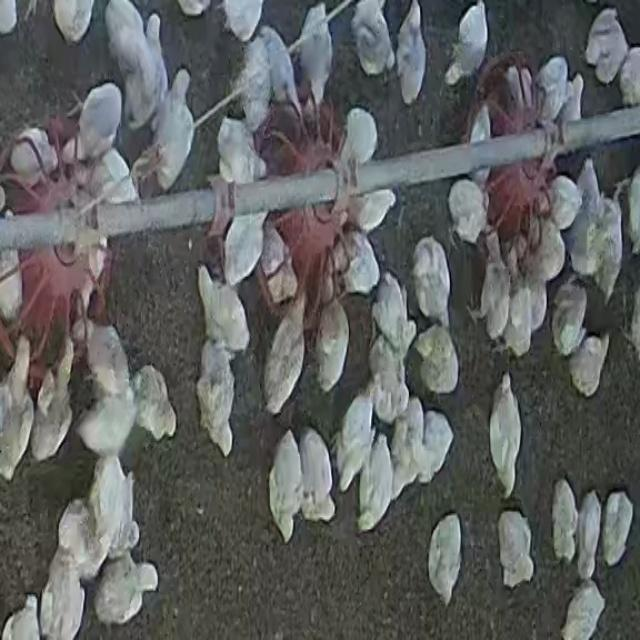chicken: (141, 72, 197, 193), (392, 402, 454, 499), (29, 340, 76, 463), (68, 81, 125, 180), (83, 458, 134, 568), (121, 13, 170, 124), (234, 26, 281, 136), (197, 264, 250, 360), (196, 339, 238, 459), (74, 382, 139, 459), (264, 300, 307, 416), (0, 336, 35, 478), (93, 552, 157, 626), (258, 24, 304, 126), (82, 317, 133, 405), (268, 428, 305, 542), (489, 374, 523, 497), (293, 9, 334, 111), (584, 192, 623, 299), (52, 499, 98, 587), (41, 552, 89, 636), (424, 509, 468, 600), (442, 1, 488, 88), (472, 235, 508, 346), (368, 330, 410, 422), (335, 396, 374, 495), (313, 294, 349, 400), (357, 432, 395, 532), (221, 210, 268, 289), (372, 270, 415, 355), (216, 115, 266, 188), (298, 428, 336, 524), (104, 2, 152, 76), (350, 0, 394, 79), (134, 365, 178, 443), (584, 7, 628, 84), (411, 238, 451, 322), (413, 324, 459, 396), (564, 185, 598, 282), (395, 2, 427, 102), (497, 508, 535, 590), (258, 219, 295, 302), (446, 178, 489, 248), (566, 332, 610, 399), (550, 282, 588, 359), (502, 278, 537, 360), (531, 208, 568, 284), (600, 489, 634, 570), (558, 581, 606, 638), (339, 106, 379, 174), (343, 229, 382, 297), (534, 55, 572, 124), (574, 490, 603, 578), (550, 480, 579, 566), (15, 126, 58, 180), (547, 172, 583, 231), (350, 188, 396, 234), (624, 163, 640, 254)
